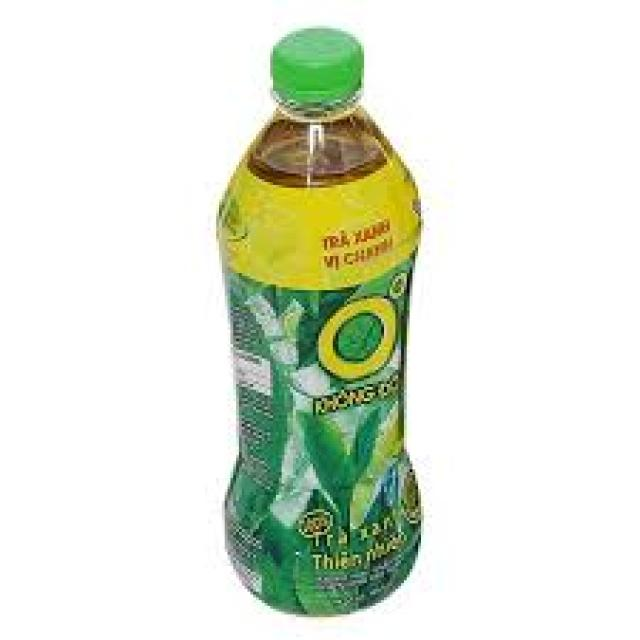tra xanh khong do: (211, 22, 444, 628)
